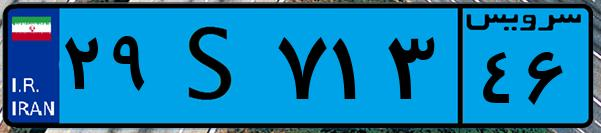1: (330, 28, 385, 110)
2: (57, 26, 110, 100)
3: (385, 28, 445, 110)
4: (475, 38, 525, 113)
6: (525, 38, 570, 115)
7: (270, 28, 330, 110)
9: (110, 28, 158, 98)
S: (158, 12, 270, 120)
